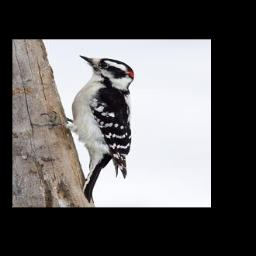Woodpecker: (30, 53, 137, 203)
